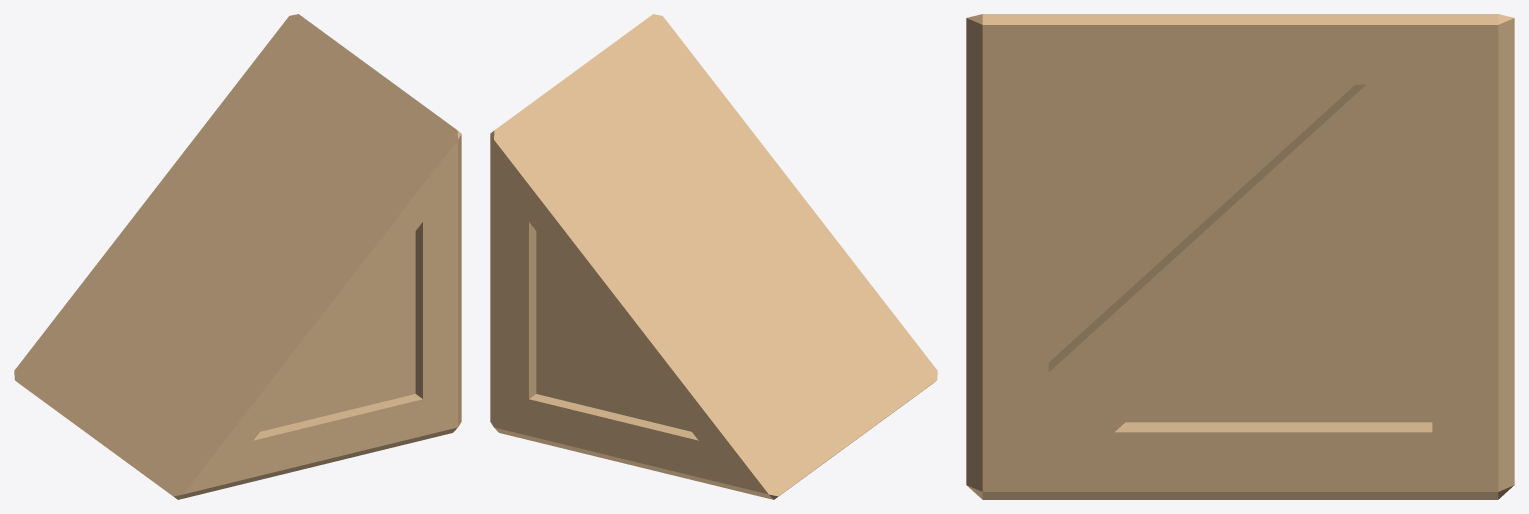
The model's file is SlopeR.fbx.
3 views of the same model, side by side, from view 1: azimuth 30°, elevation 25°; view 2: azimuth 150°, elevation 25°; view 3: azimuth 270°, elevation 25° (orthographic). The views are drawn at different scales.
Visible parts, largest first — view 1: Slope; view 2: Slope; view 3: Slope.
Part boxes in pixels (left/top/right/bottom): Slope: left=14, top=14, right=461, bottom=499; Slope: left=490, top=14, right=937, bottom=499; Slope: left=966, top=14, right=1514, bottom=499.
Size of the model in its own units: 0.985 by 0.985 by 1.
1 material, 1 textured.
